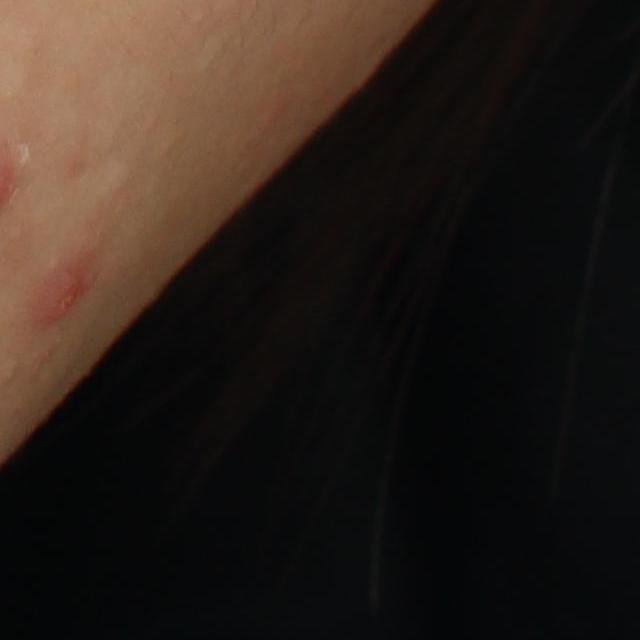papule: (31, 255, 93, 329)
